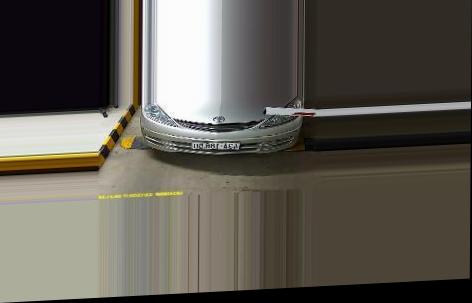License_Plate: (191, 139, 240, 153)
